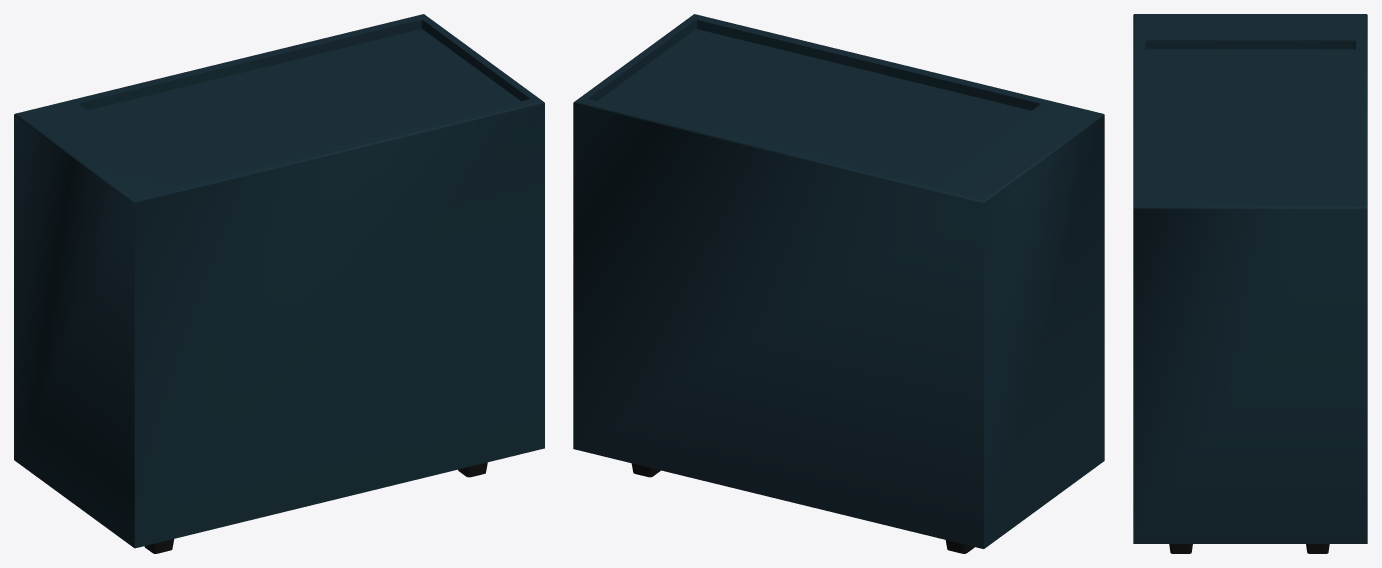
3 views of the same model, side by side, from view 1: azimuth 30°, elevation 25°; view 2: azimuth 150°, elevation 25°; view 3: azimuth 270°, elevation 25° (orthographic). The views are drawn at different scales.
Visible parts, largest first — view 1: enclosure; view 2: enclosure; view 3: enclosure.
Boxes of the visible parts, left/top/right/bottom form: enclosure: left=14, top=14, right=544, bottom=553; enclosure: left=573, top=14, right=1104, bottom=553; enclosure: left=1133, top=14, right=1367, bottom=553.
Size of the model in its own units: 0.45 by 0.3945 by 0.2293.
